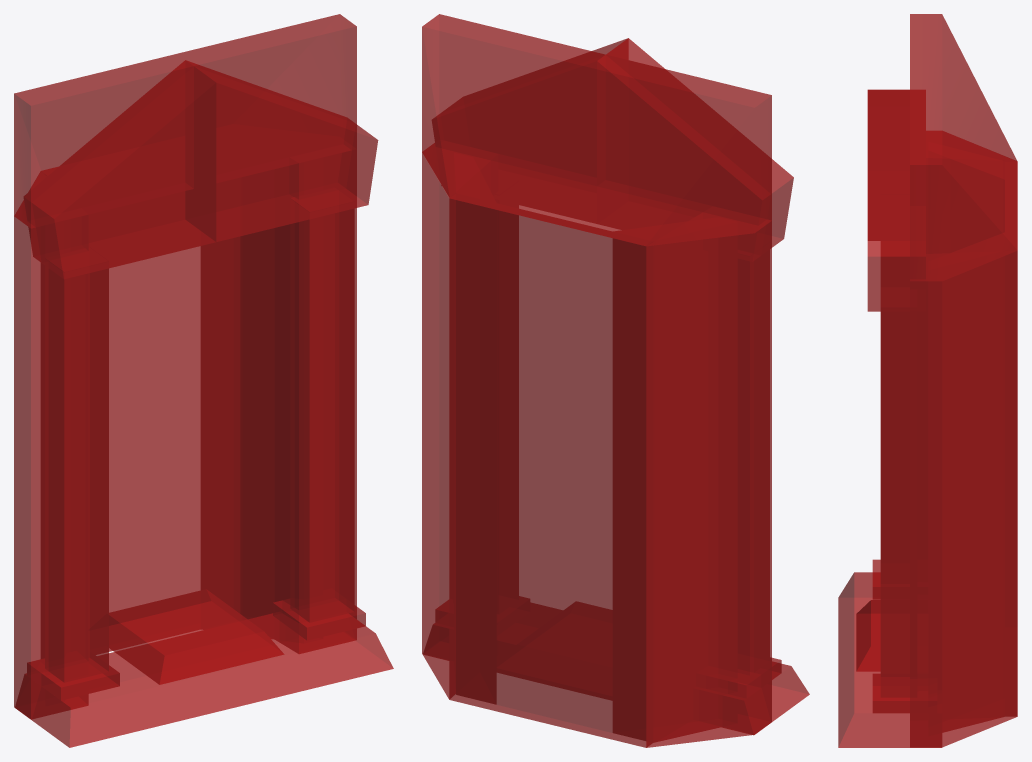
Rendered from SM_Bld_Wall_Alcove_Large_01_Collision.fbx.
3 views of the same model, side by side, from view 1: azimuth 30°, elevation 25°; view 2: azimuth 150°, elevation 25°; view 3: azimuth 270°, elevation 25° (orthographic). The views are drawn at different scales.
Parts seen in each view (by area): view 1: SM_Bld_Wall_Alcove_Large_01_Collision; view 2: SM_Bld_Wall_Alcove_Large_01_Collision; view 3: SM_Bld_Wall_Alcove_Large_01_Collision.
Boxes of the visible parts, box(x1,y1,x2,y2) form: SM_Bld_Wall_Alcove_Large_01_Collision: box(14, 14, 393, 747); SM_Bld_Wall_Alcove_Large_01_Collision: box(422, 14, 809, 747); SM_Bld_Wall_Alcove_Large_01_Collision: box(838, 14, 1017, 747).
Bounding box in the file's own units: 250 × 451 × 126.
